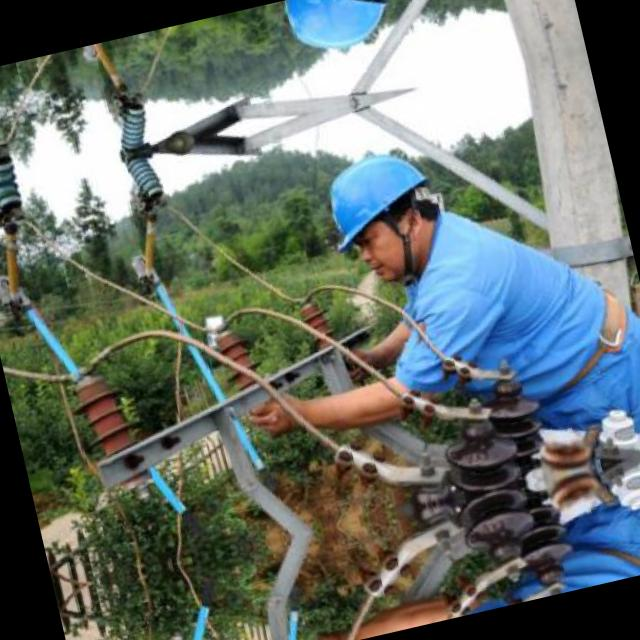helmet: (296, 128, 462, 298), (260, 0, 412, 77)
